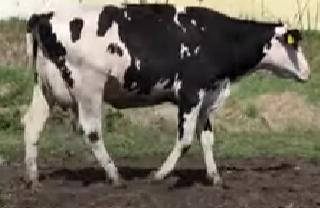cow: (21, 4, 312, 188)
